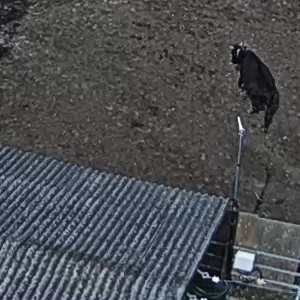cow: (220, 43, 285, 137)
